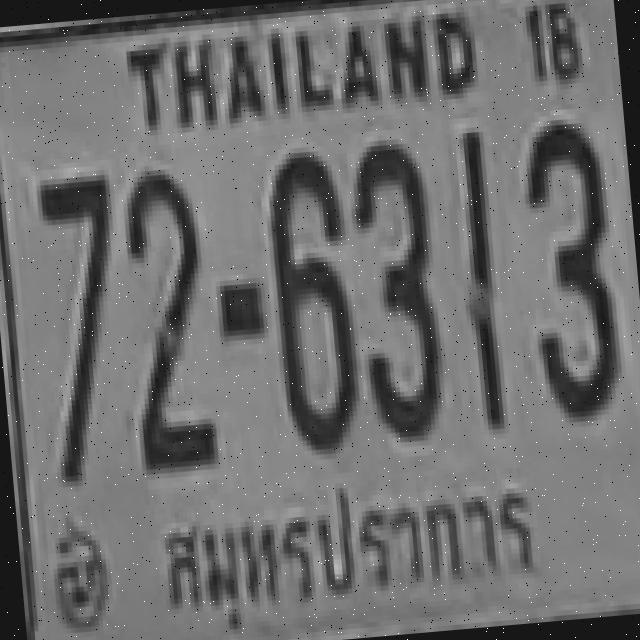2: (118, 165, 212, 416), (117, 222, 214, 465)
3: (514, 116, 621, 420), (346, 142, 444, 440), (516, 149, 620, 417)
6: (260, 144, 360, 452)
7: (35, 172, 119, 354)
SamutPrakan: (142, 464, 550, 640)
